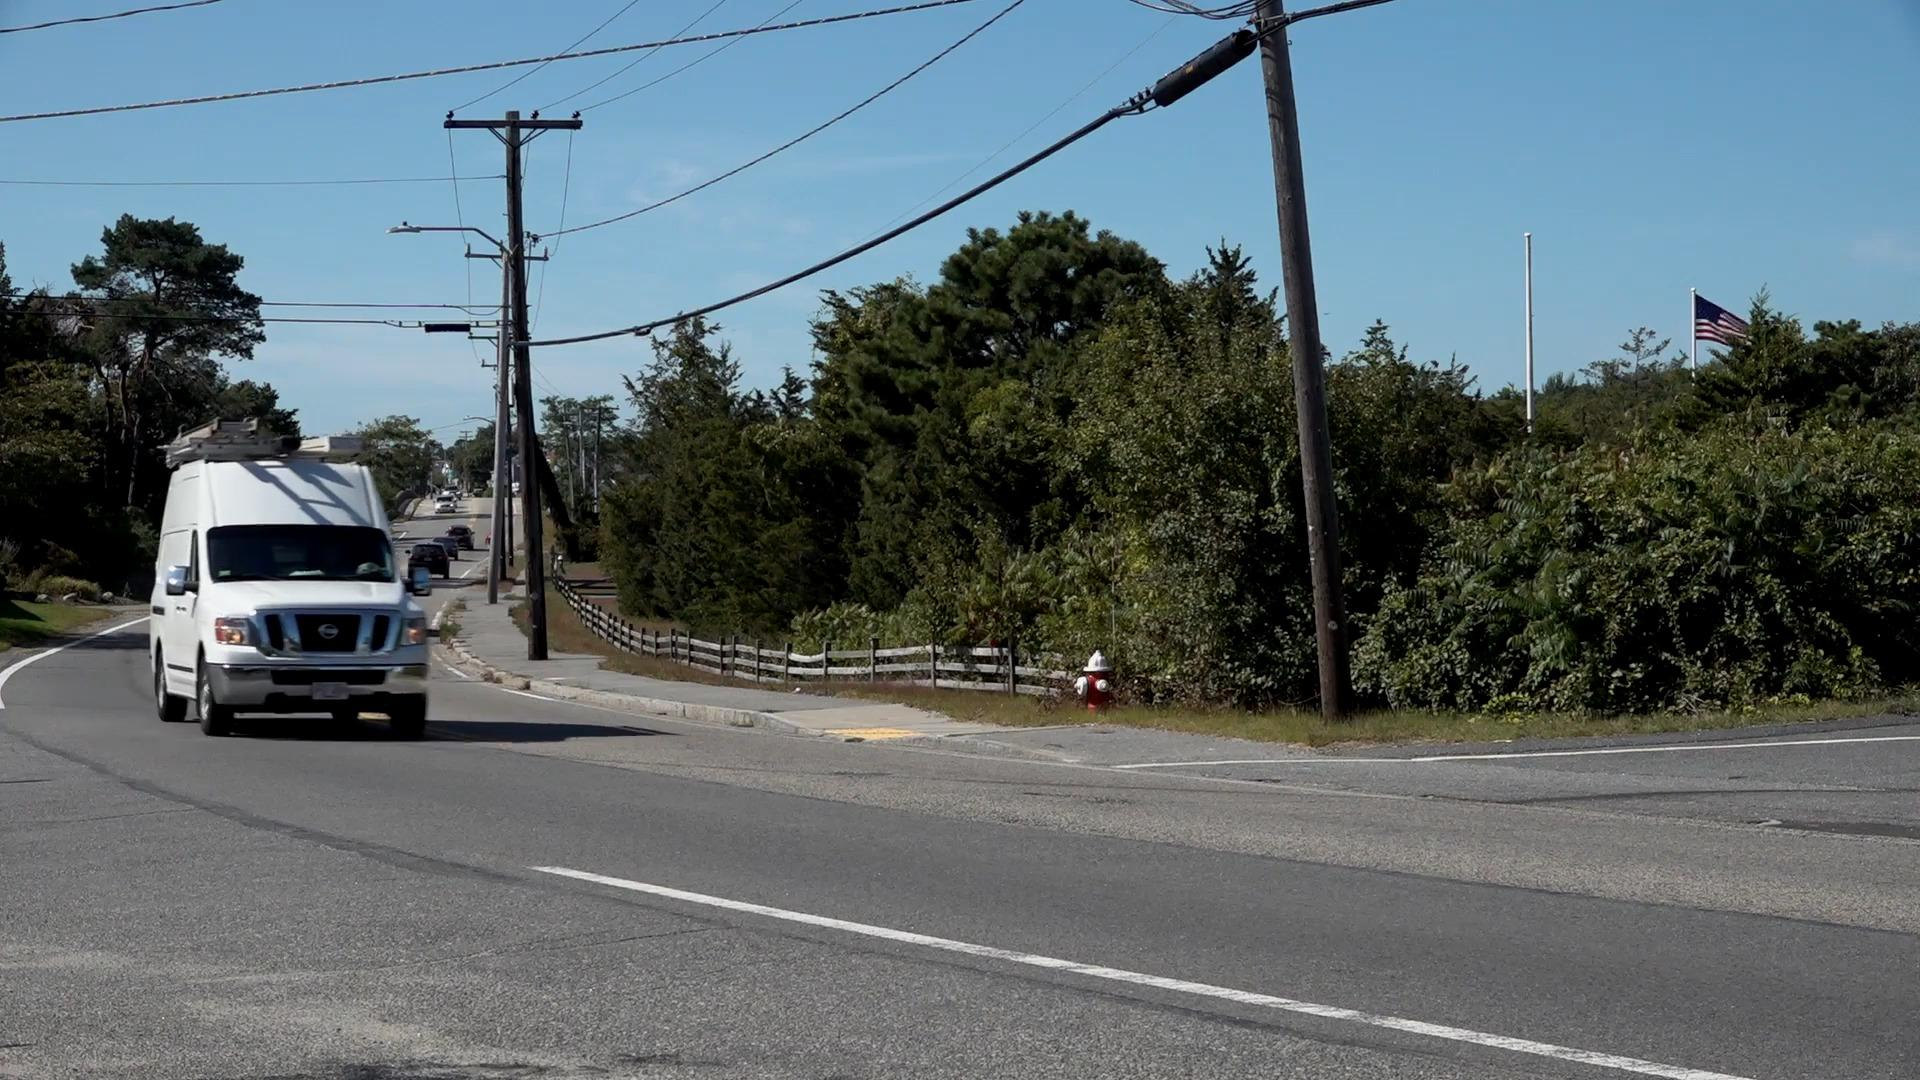truck: (146, 425, 435, 735)
